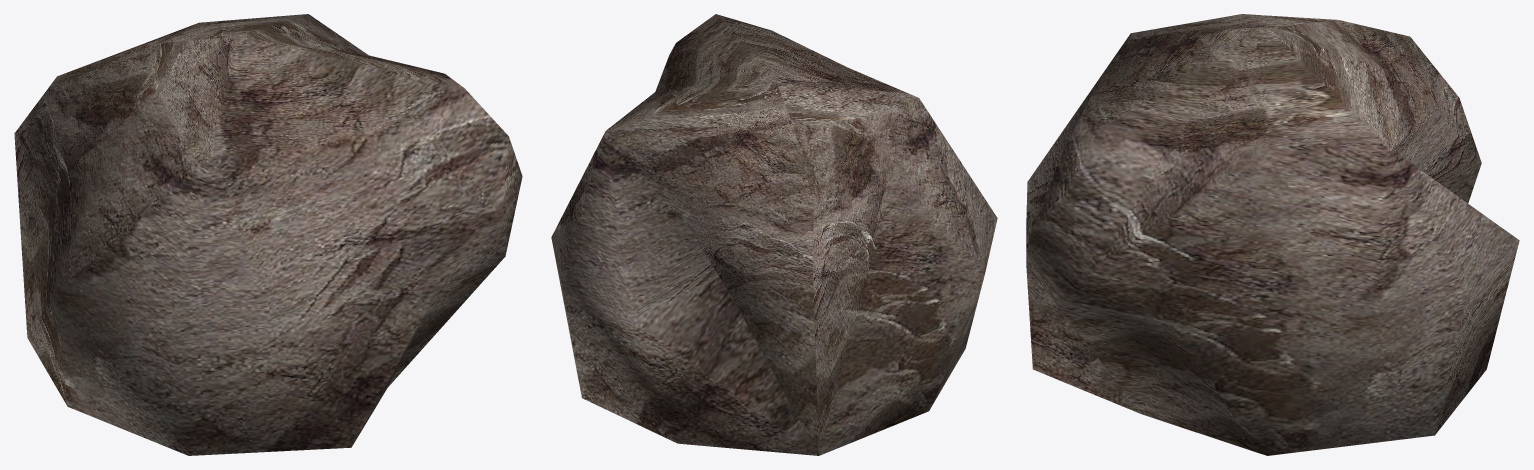
Rendered from large_boulder04.fbx.
3 renders of one model, left to right at view 1: azimuth 30°, elevation 25°; view 2: azimuth 150°, elevation 25°; view 3: azimuth 270°, elevation 25°, orthographic. The views are drawn at different scales.
Parts seen in each view (by area): view 1: mesh_0; view 2: mesh_0; view 3: mesh_0.
Part boxes in pixels (x1,y1,x2,y2): mesh_0: [14, 14, 522, 455]; mesh_0: [551, 14, 997, 455]; mesh_0: [1026, 14, 1519, 455].
Bounding box in the file's own units: 597 × 458 × 600.
1 material, 1 textured.
